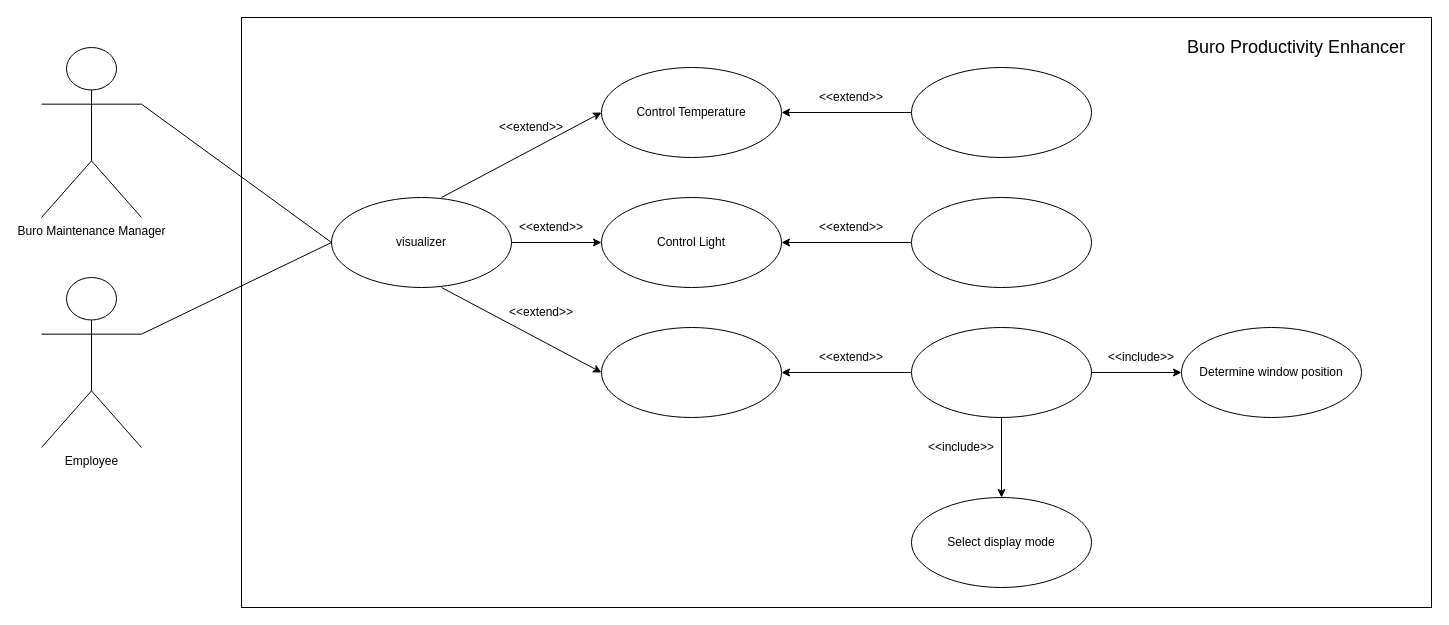
This 1449x625 diagram has some shape labels left out. The centre of each missing label's shape, as x and y in pixels:
Control Ambiance: the point at 691,372
Control Window Display: the point at 1001,372
Vary Luminance: the point at 1001,242
Vary Thermostat: the point at 1001,112
